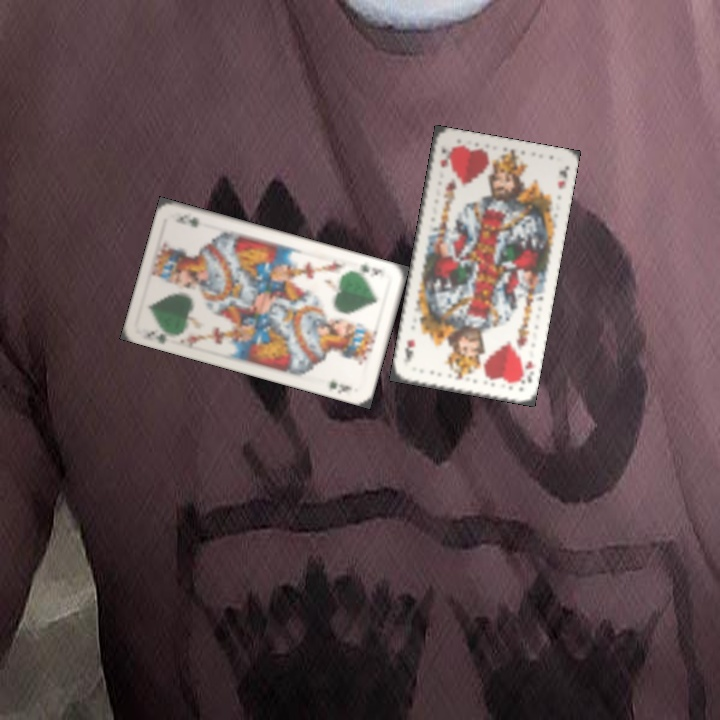GK: (355, 259, 387, 280), (143, 327, 169, 346)
HK: (514, 356, 537, 387), (436, 145, 451, 171)
